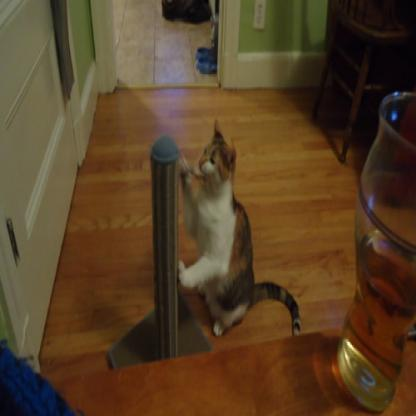Target: (176, 121, 304, 339)
